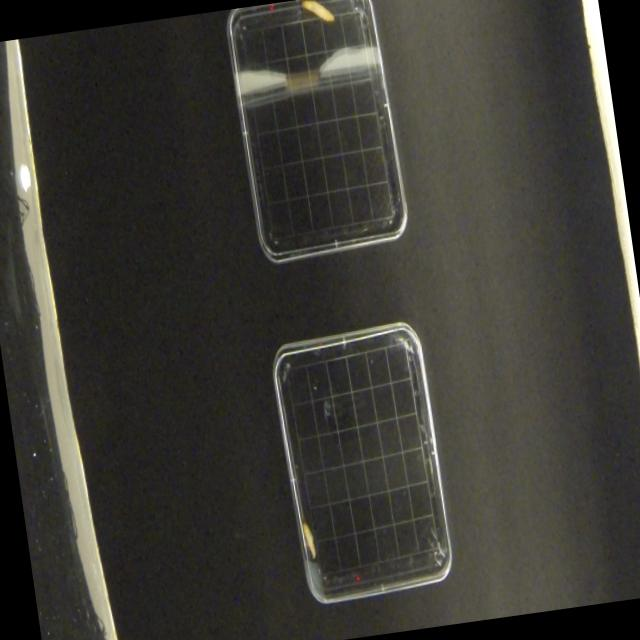larva: (298, 514, 320, 564), (299, 0, 337, 26)
